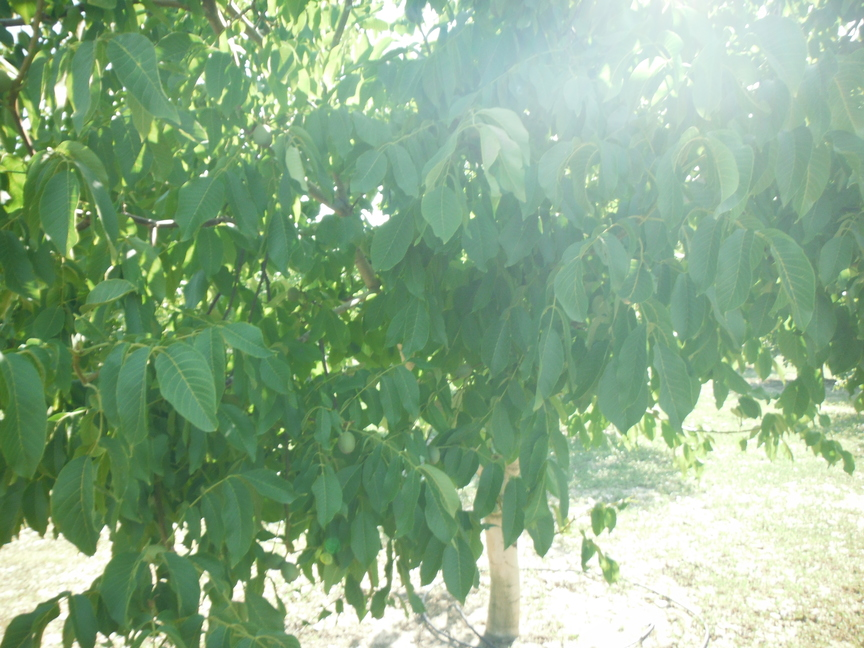walnut: (246, 117, 280, 155), (330, 425, 362, 460), (277, 556, 305, 586), (262, 547, 287, 577), (451, 359, 476, 382), (422, 441, 444, 467)
